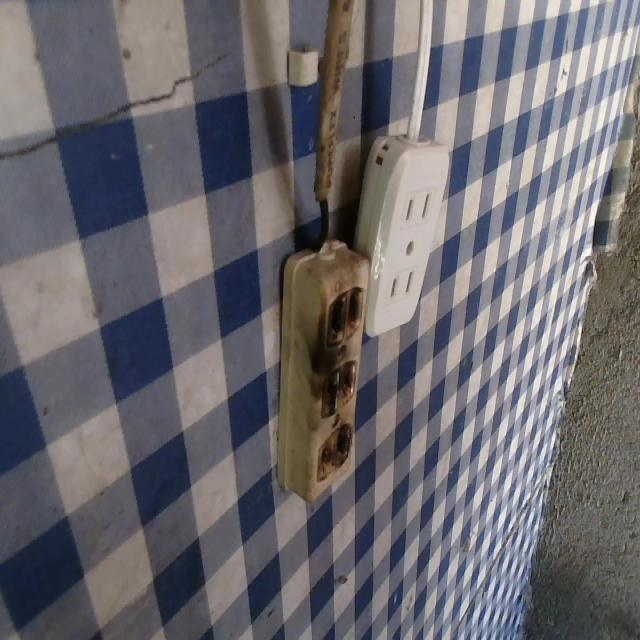-: (310, 420, 356, 481), (326, 284, 369, 347), (318, 354, 360, 410)
